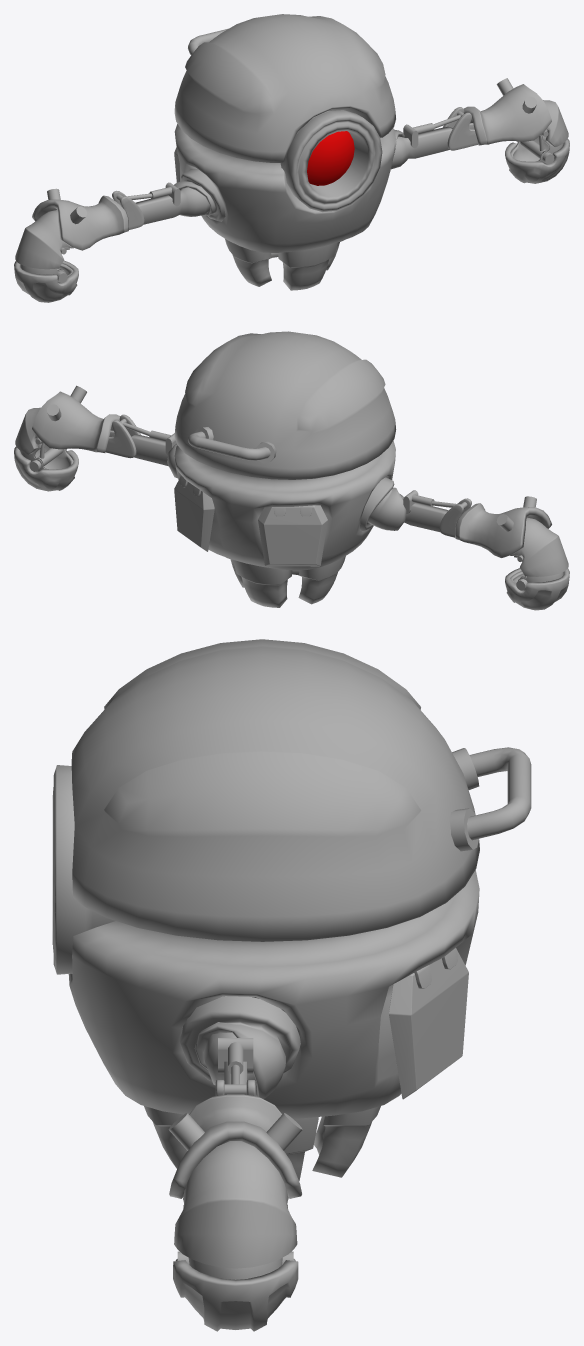
Rendered from SM_Enemy_TPose.fbx.
3 renders of one model, top to bottom at view 1: azimuth 30°, elevation 25°; view 2: azimuth 150°, elevation 25°; view 3: azimuth 270°, elevation 25°, orthographic. The views are drawn at different scales.
Parts seen in each view (by area): view 1: group44_armL_group38_pCylinder11; view 2: group44_armL_group38_pCylinder11; view 3: group44_armL_group38_pCylinder11.
Part boxes in pixels (x1,y1,x2,y2): group44_armL_group38_pCylinder11: [14, 14, 569, 302]; group44_armL_group38_pCylinder11: [14, 331, 569, 610]; group44_armL_group38_pCylinder11: [52, 639, 531, 1331].
Bounding box in the file's own units: 30.55 × 13.14 × 11.53.
